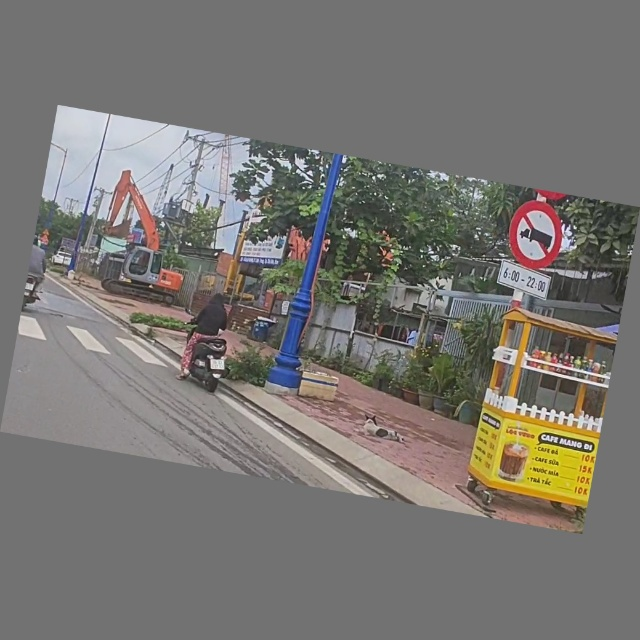B.8a: (504, 197, 570, 275)
